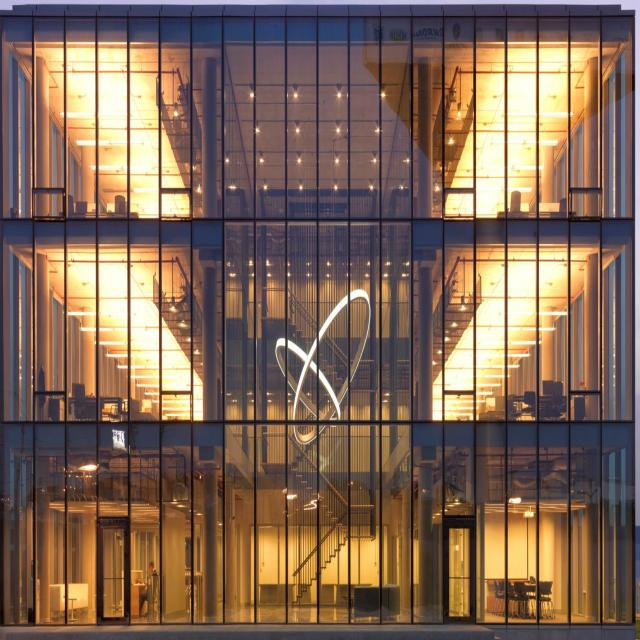door: (95, 519, 131, 633), (442, 513, 477, 625)
window: (0, 15, 634, 624)
